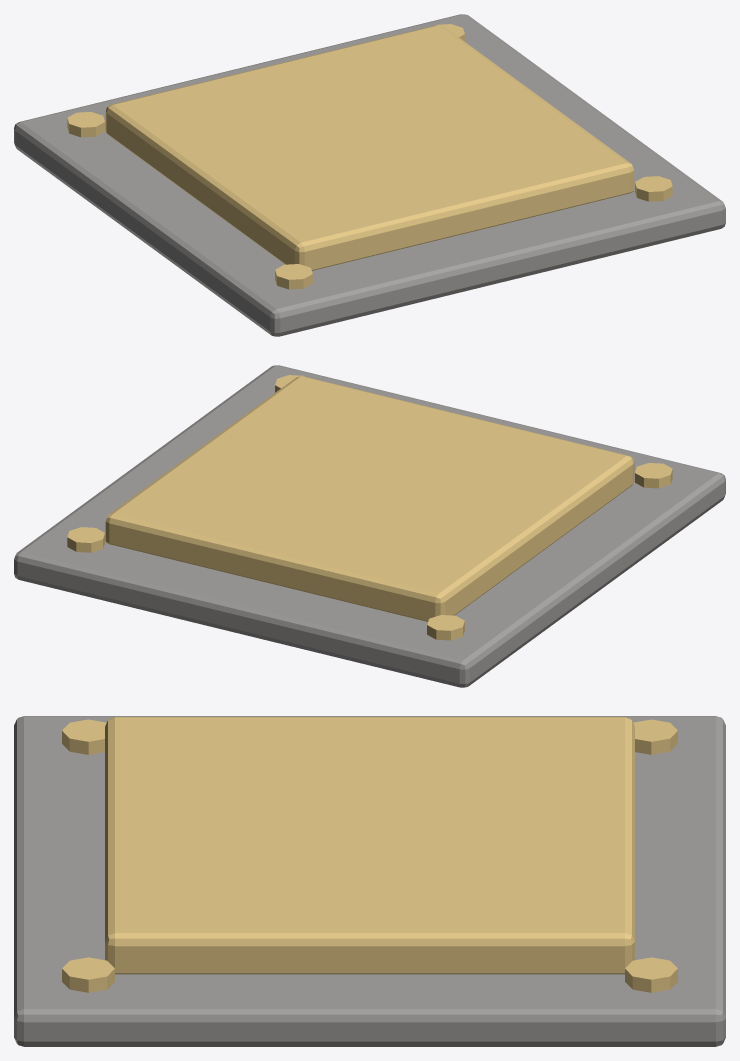
Rendered from pressure_plate.glb.
3 renders of one model, top to bottom at view 1: azimuth 30°, elevation 25°; view 2: azimuth 150°, elevation 25°; view 3: azimuth 270°, elevation 25°, orthographic. The views are drawn at different scales.
Visible parts, largest first — view 1: BrassTrigger, PlateFrame, CornerRivet_0.34_-0.34, CornerRivet_-0.34_-0.34, CornerRivet_-0.34_0.34; view 2: BrassTrigger, PlateFrame, CornerRivet_0.34_0.34, CornerRivet_-0.34_0.34, CornerRivet_-0.34_-0.34; view 3: BrassTrigger, PlateFrame, CornerRivet_0.34_0.34, CornerRivet_0.34_-0.34, CornerRivet_-0.34_0.34, CornerRivet_-0.34_-0.34.
Boxes of the visible parts, box(x1,y1,x2,y2) form: BrassTrigger: box(105, 25, 634, 270); PlateFrame: box(14, 14, 725, 336); CornerRivet_0.34_-0.34: box(635, 176, 672, 201); CornerRivet_-0.34_-0.34: box(275, 264, 312, 289); CornerRivet_-0.34_0.34: box(67, 112, 104, 137); BrassTrigger: box(105, 376, 634, 621); PlateFrame: box(14, 365, 725, 687); CornerRivet_0.34_0.34: box(67, 527, 104, 552); CornerRivet_-0.34_0.34: box(427, 615, 464, 640); CornerRivet_-0.34_-0.34: box(635, 463, 672, 488); BrassTrigger: box(105, 717, 634, 974); PlateFrame: box(14, 716, 725, 1046); CornerRivet_0.34_0.34: box(625, 957, 677, 992); CornerRivet_0.34_-0.34: box(62, 957, 114, 992); CornerRivet_-0.34_0.34: box(633, 719, 677, 754); CornerRivet_-0.34_-0.34: box(62, 719, 106, 754).
Bounding box in the file's own units: 0.86 × 0.1 × 0.86.
